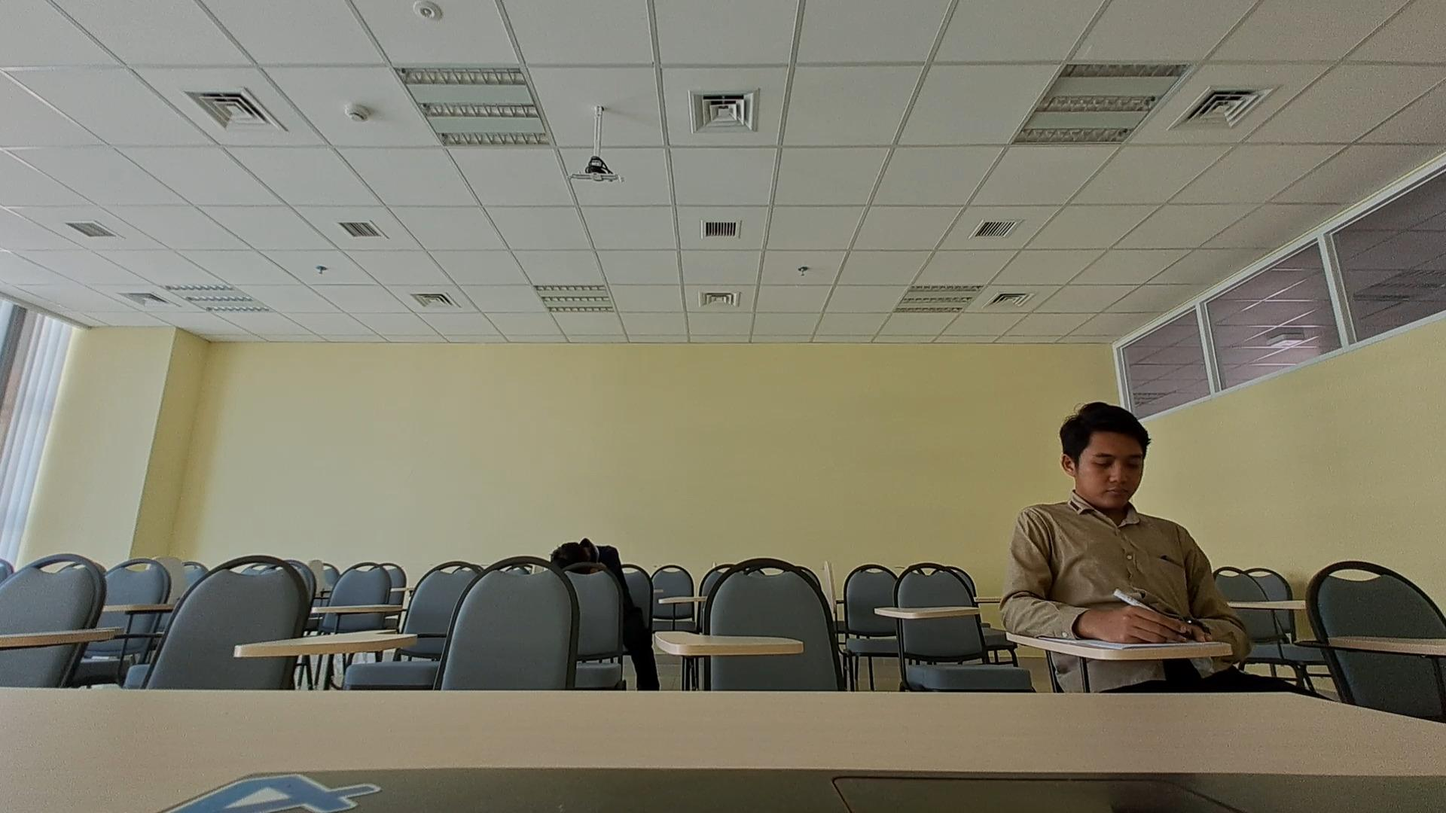sleep: (549, 536, 618, 573)
study: (1009, 401, 1242, 646)
